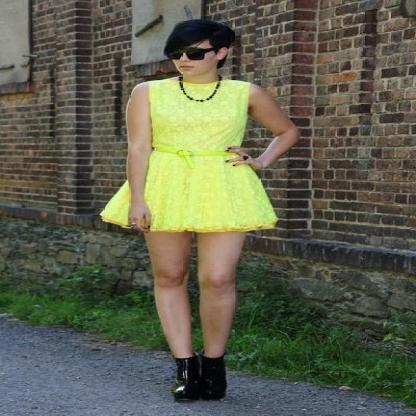dress: (100, 77, 282, 232)
shoe: (172, 352, 226, 402)
sunglass: (165, 36, 194, 58)
